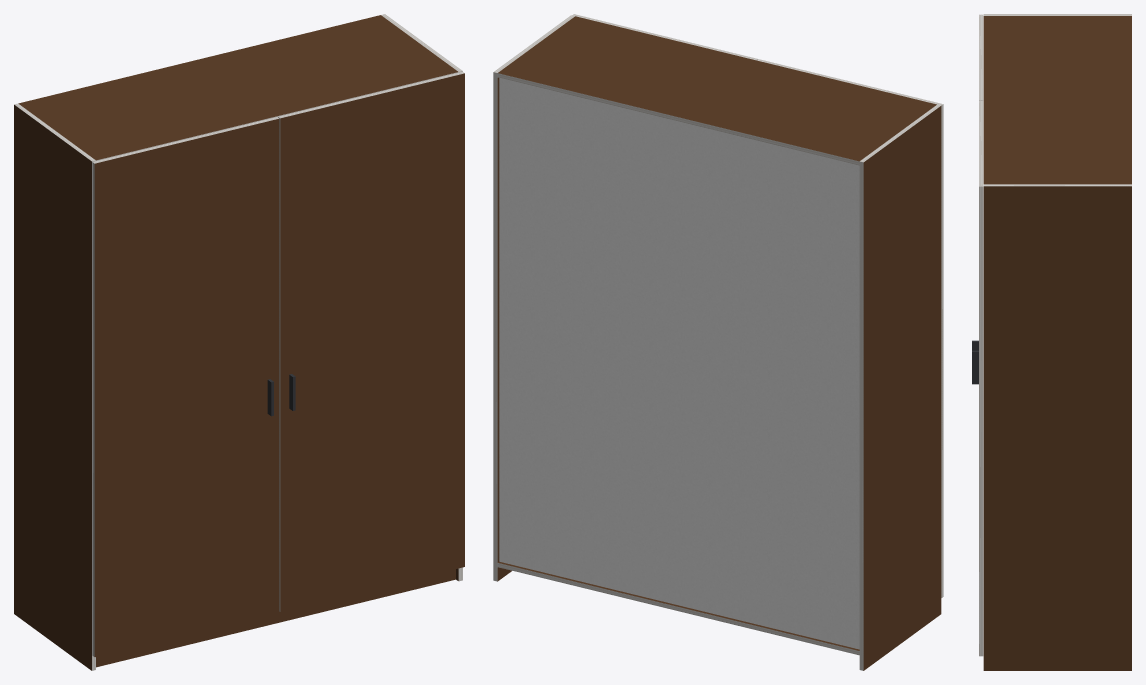
The model's file is ATL-WRD-double.glb.
The picture shows the model from 3 angles, left to right: view 1: azimuth 30°, elevation 25°; view 2: azimuth 150°, elevation 25°; view 3: azimuth 270°, elevation 25°; orthographic projection. The views are drawn at different scales.
Parts seen in each view (by area): view 1: door-l:pbr, door-r:pbr, side-l:pbr, top:pbr, plinth:pbr, door-l:sheet:eyJtIjoicGx5Iiwic2lkZSI6ImVkZ2UtbG9uZyIsInNlZWQ, door-r:sheet:eyJtIjoicGx5Iiwic2lkZSI6ImVkZ2UtbG9uZyIsInNlZWQ; view 2: back:sheet:eyJtIjoibWRmIiwic2lkZSI6ImZhY2UiLCJzZWVkIjoxLCJ0a, side-l:pbr, top:pbr, side-l:sheet:eyJtIjoicGx5Iiwic2lkZSI6ImVkZ2UtbG9uZyIsInNlZWQ, side-r:sheet:eyJtIjoicGx5Iiwic2lkZSI6ImVkZ2UtbG9uZyIsInNlZWQ, top:sheet:eyJtIjoicGx5Iiwic2lkZSI6ImVkZ2UtbG9uZyIsInNlZWQiOj, bottom:sheet:eyJtIjoicGx5Iiwic2lkZSI6ImVkZ2UtbG9uZyIsInNlZWQ, side-r:pbr, door-l:sheet:eyJtIjoicGx5Iiwic2lkZSI6ImVkZ2UtbG9uZyIsInNlZWQ, bottom:pbr; view 3: side-r:pbr, top:pbr, door-r:sheet:eyJtIjoicGx5Iiwic2lkZSI6ImVkZ2UtbG9uZyIsInNlZWQ, side-r:sheet:eyJtIjoicGx5Iiwic2lkZSI6ImVkZ2UtZW5kIiwic2VlZCI, door-r:sheet:eyJtIjoicGx5Iiwic2lkZSI6ImVkZ2UtZW5kIiwic2VlZCI, door-l:sheet:eyJtIjoicGx5Iiwic2lkZSI6ImVkZ2UtZW5kIiwic2VlZCI, pull, side-l:sheet:eyJtIjoicGx5Iiwic2lkZSI6ImVkZ2UtZW5kIiwic2VlZCI.
Boxes of the visible parts, left/top/right/bottom form: door-l:pbr: left=94, top=119, right=279, bottom=656; door-r:pbr: left=280, top=73, right=464, bottom=611; side-l:pbr: left=14, top=105, right=91, bottom=670; top:pbr: left=18, top=15, right=457, bottom=160; plinth:pbr: left=96, top=569, right=455, bottom=667; door-l:sheet:eyJtIjoicGx5Iiwic2lkZSI6ImVkZ2UtbG9uZyIsInNlZWQ: left=92, top=162, right=94, bottom=656; door-r:sheet:eyJtIjoicGx5Iiwic2lkZSI6ImVkZ2UtbG9uZyIsInNlZWQ: left=278, top=117, right=280, bottom=611; back:sheet:eyJtIjoibWRmIiwic2lkZSI6ImZhY2UiLCJzZWVkIjoxLCJ0a: left=499, top=78, right=859, bottom=649; side-l:pbr: left=863, top=106, right=941, bottom=670; top:pbr: left=498, top=16, right=936, bottom=161; side-l:sheet:eyJtIjoicGx5Iiwic2lkZSI6ImVkZ2UtbG9uZyIsInNlZWQ: left=859, top=161, right=863, bottom=670; side-r:sheet:eyJtIjoicGx5Iiwic2lkZSI6ImVkZ2UtbG9uZyIsInNlZWQ: left=493, top=72, right=497, bottom=581; top:sheet:eyJtIjoicGx5Iiwic2lkZSI6ImVkZ2UtbG9uZyIsInNlZWQiOj: left=497, top=73, right=859, bottom=165; bottom:sheet:eyJtIjoicGx5Iiwic2lkZSI6ImVkZ2UtbG9uZyIsInNlZWQ: left=497, top=563, right=859, bottom=655; side-r:pbr: left=497, top=77, right=511, bottom=581; door-l:sheet:eyJtIjoicGx5Iiwic2lkZSI6ImVkZ2UtbG9uZyIsInNlZWQ: left=941, top=104, right=943, bottom=597; bottom:pbr: left=498, top=561, right=859, bottom=650; side-r:pbr: left=983, top=186, right=1131, bottom=670; top:pbr: left=983, top=16, right=1131, bottom=184; door-r:sheet:eyJtIjoicGx5Iiwic2lkZSI6ImVkZ2UtbG9uZyIsInNlZWQ: left=979, top=186, right=983, bottom=656; side-r:sheet:eyJtIjoicGx5Iiwic2lkZSI6ImVkZ2UtZW5kIiwic2VlZCI: left=983, top=184, right=1131, bottom=186; door-r:sheet:eyJtIjoicGx5Iiwic2lkZSI6ImVkZ2UtZW5kIiwic2VlZCI: left=979, top=100, right=983, bottom=186; door-l:sheet:eyJtIjoicGx5Iiwic2lkZSI6ImVkZ2UtZW5kIiwic2VlZCI: left=979, top=14, right=983, bottom=100; pull: left=972, top=340, right=978, bottom=384; side-l:sheet:eyJtIjoicGx5Iiwic2lkZSI6ImVkZ2UtZW5kIiwic2VlZCI: left=983, top=14, right=1131, bottom=15.
Bounding box in the file's own units: 1.6 × 2.1 × 0.6271.
34 materials, 23 textured.
